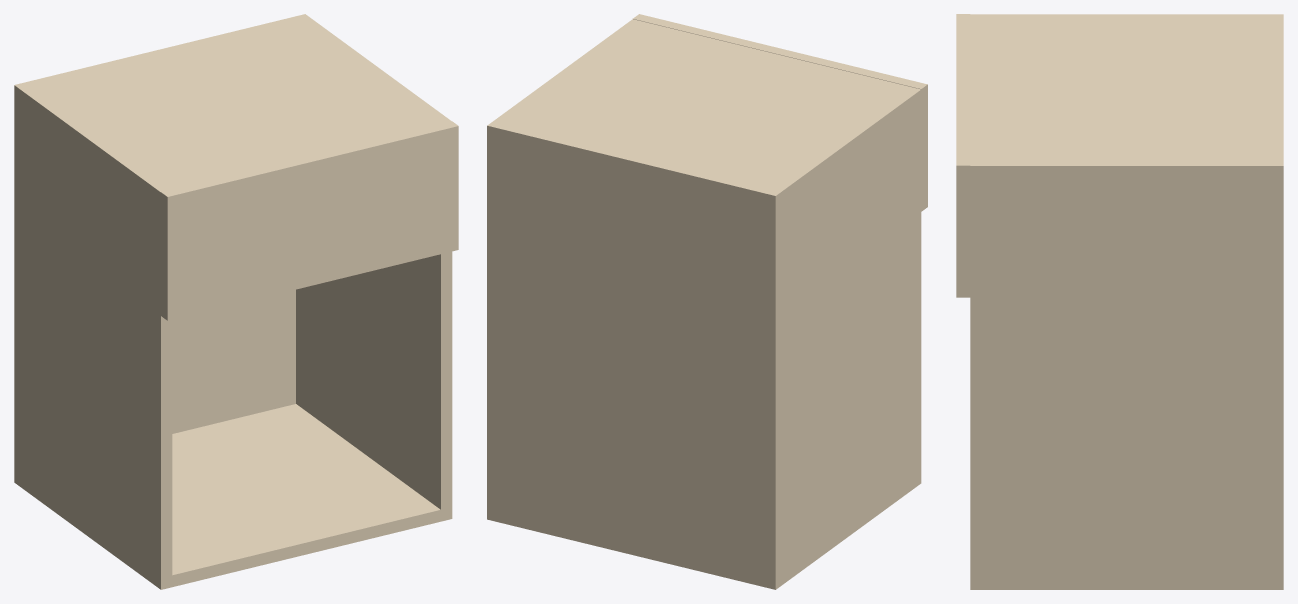
File: natural.glb
The picture shows the model from 3 angles, left to right: view 1: azimuth 30°, elevation 25°; view 2: azimuth 150°, elevation 25°; view 3: azimuth 270°, elevation 25°; orthographic projection. The views are drawn at different scales.
Parts seen in each view (by area): view 1: side.1, top.1, false_front.1, bottom.1, side.2, back.1; view 2: back.1, side.1, top.1, false_front.1; view 3: side.2, top.1, false_front.1, back.1.
Part boxes in pixels (x1,y1,x2,y2): side.1: [16, 99, 172, 589]; top.1: [16, 15, 451, 203]; false_front.1: [161, 121, 458, 320]; bottom.1: [172, 404, 440, 586]; side.2: [296, 251, 452, 521]; back.1: [14, 14, 306, 483]; back.1: [487, 124, 777, 589]; side.1: [778, 101, 921, 587]; top.1: [490, 19, 921, 205]; false_front.1: [633, 14, 927, 211]; side.2: [970, 178, 1278, 589]; top.1: [970, 14, 1278, 178]; false_front.1: [956, 14, 970, 297]; back.1: [1279, 14, 1283, 589].
Bounding box in the file's own units: 0.46 × 0.6005 × 0.42.
